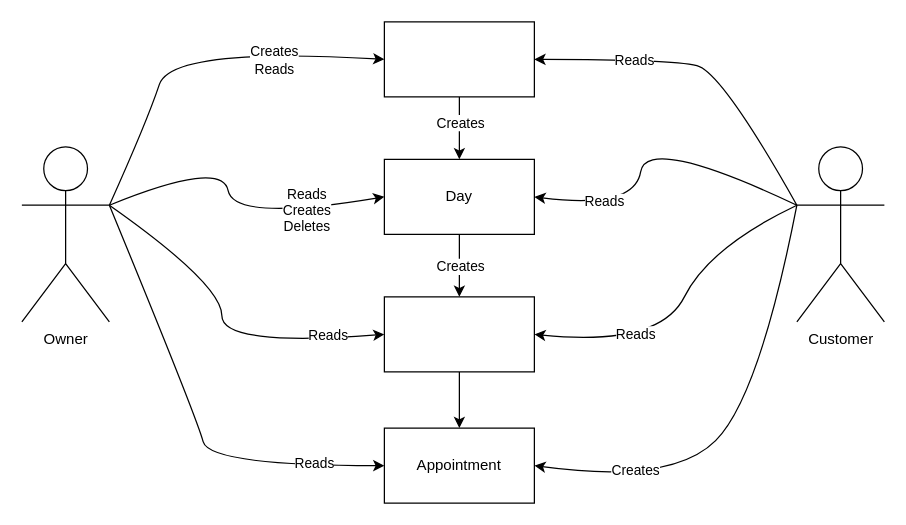
Image size: 906x525. Some labels were removed from this diagram. Here are the shapes that lost their labels. From the top down, the centre of each, then its label:
At (x=458, y=59): "Service".
At (x=458, y=334): "Time".
